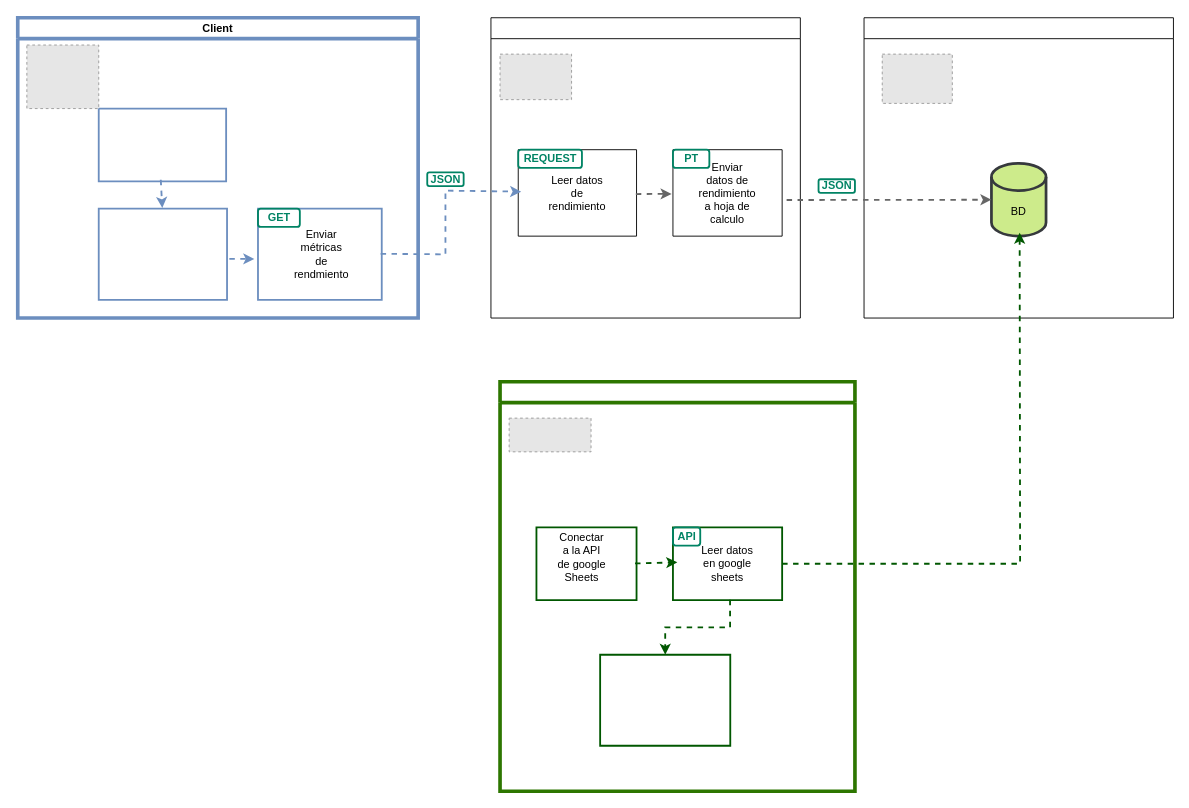
This 1189x808 diagram has some shape labels left out. Grey dashed boxes stand in for pictures. Each missing label, with the box of its shape:
DataBase(Cloud): (863, 17, 1173, 318)
Ejecutar algoritmos de multiplicación secuencial y concurrentes: (97, 107, 227, 182)
Hacer graficos para comparar el rendimiento: (599, 653, 731, 746)
Obtener Métricas de rendimiento: (97, 207, 228, 300)
Server: (490, 17, 800, 318)
